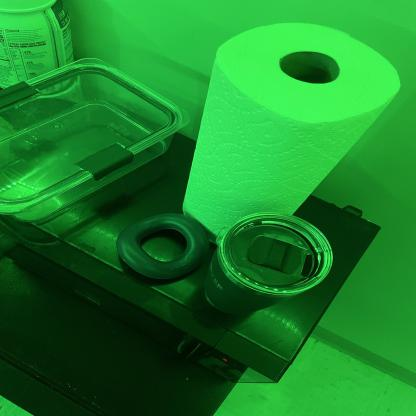ring: (115, 213, 209, 280)
